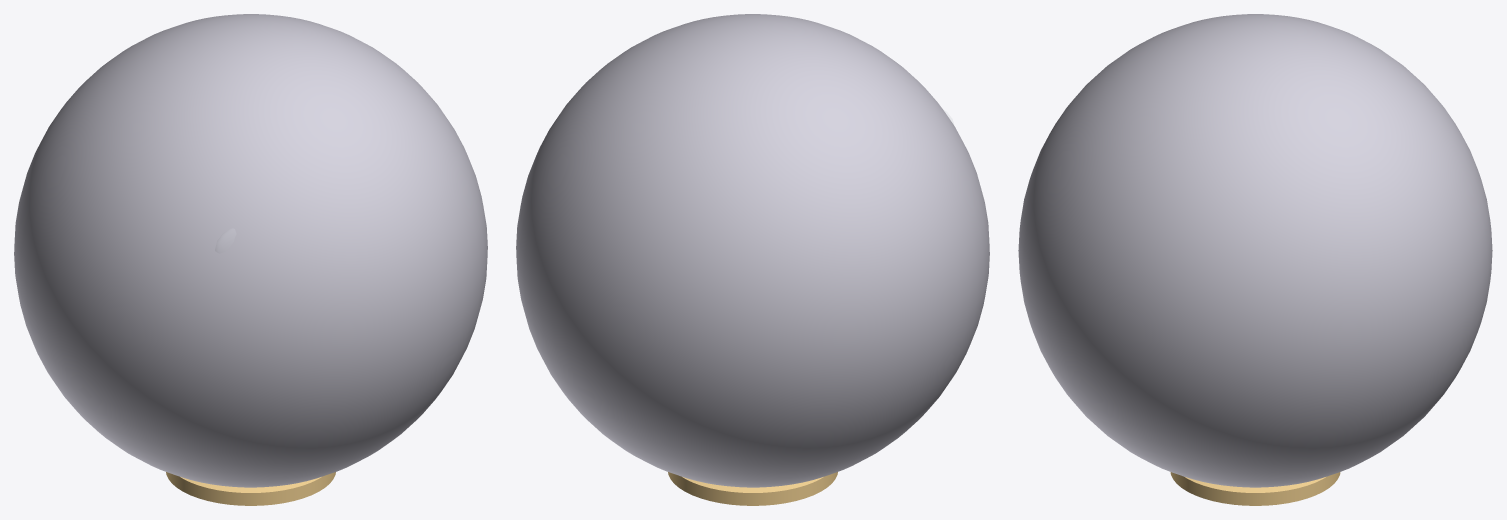
Rendered from bubble.glb.
3 renders of one model, left to right at view 1: azimuth 30°, elevation 25°; view 2: azimuth 150°, elevation 25°; view 3: azimuth 270°, elevation 25°, orthographic.
Parts seen in each view (by area): view 1: bubble, ring; view 2: bubble, ring; view 3: bubble, ring.
Boxes of the visible parts, x1,y1,x2,y2 form: bubble: [14, 14, 487, 487]; ring: [166, 472, 335, 505]; bubble: [516, 14, 989, 487]; ring: [668, 472, 837, 505]; bubble: [1018, 14, 1492, 487]; ring: [1170, 472, 1340, 505].
Size of the model in its own units: 2 by 2.04 by 2.
